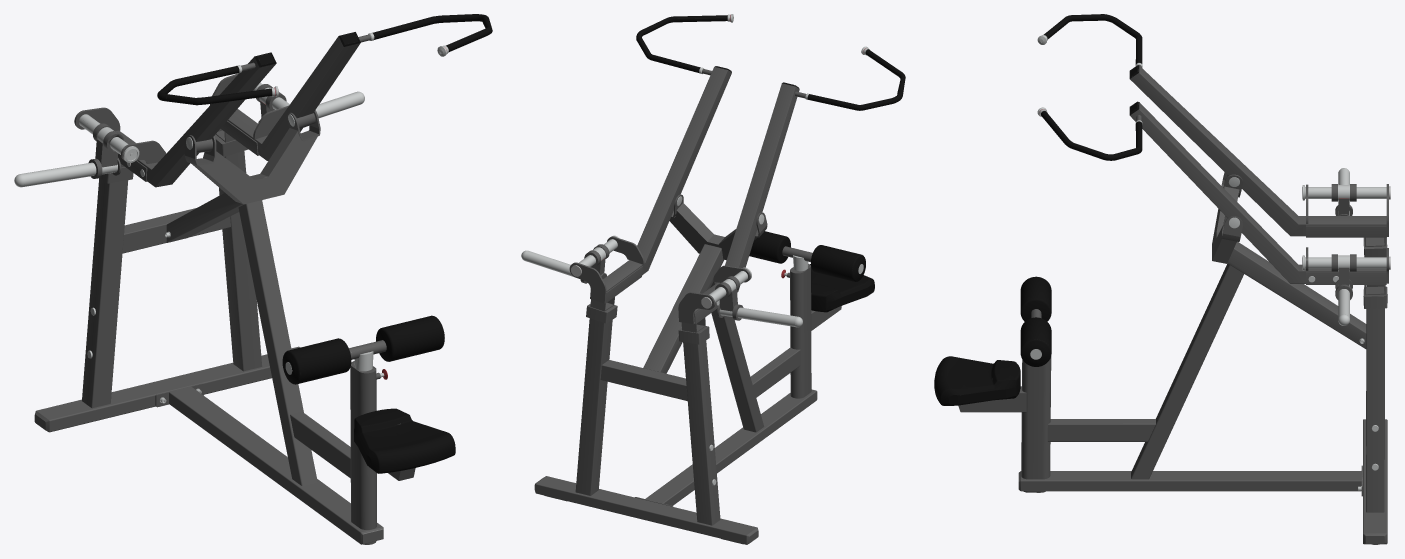
Rendered from Megafitness_94033.glb.
The picture shows the model from 3 angles, left to right: view 1: azimuth 30°, elevation 25°; view 2: azimuth 150°, elevation 25°; view 3: azimuth 270°, elevation 25°; orthographic projection. The views are drawn at different scales.
Visible parts, largest first — view 1: Cube.024, Cube.002, Cube.004, Cube.008, Cube.043, Cube.013, Cube, Cube.034, Circle.018, Cube.001, Cylinder.004, Cylinder.002 (+10 smaller); view 2: Cube.001, Cube.024, Cube.008, Cube.013, Cube.034, Cube.004, Circle.018, Cube.037, Cube.002, Cube.017, Cube.043, Cylinder.004 (+10 smaller); view 3: Cube.004, Cube.034, Cube.002, Cube.001, Cube.013, Cube.043, Cube.037, Circle.018, Cube.010, Cube.008, Cylinder.002, Cylinder.004 (+8 smaller).
Boxes of the visible parts, x1,y1,x2,y2 form: Cube.024: (82,178,128,408); Cube.002: (238,200,317,485); Cube.004: (169,386,383,544); Cube.008: (34,346,299,432); Cube.043: (354,408,455,473); Cube.013: (219,151,262,371); Cube: (191,128,317,204); Cube.034: (116,52,276,187); Circle.018: (350,351,376,529); Cube.001: (227,32,360,160); Cylinder.004: (282,338,351,384); Cylinder.002: (376,315,444,361); Cube.001: (603,66,731,291); Cube.024: (683,340,720,525); Cube.008: (534,476,758,544); Cube.013: (575,318,612,495); Cube.034: (694,82,799,323); Cube.004: (645,389,817,505); Circle.018: (790,255,811,398); Cube.037: (643,244,723,373); Cube.002: (710,282,764,432); Cube.017: (600,360,687,400); Cube.043: (810,264,874,312); Cylinder.004: (811,245,865,281); Cube.004: (1018,471,1361,491); Cube.034: (1129,65,1386,236); Cube.002: (1131,263,1243,479); Cube.001: (1129,101,1386,283); Cube.013: (1366,308,1384,512); Cube.043: (934,356,1020,405); Cube.037: (1227,241,1366,348); Circle.018: (1021,356,1051,479); Cube.010: (1047,419,1155,441); Cube.008: (1363,419,1387,544); Cylinder.002: (1020,317,1051,366); Cylinder.004: (1020,276,1051,321).
Size of the model in its own units: 1.45 by 1.86 by 1.84.
1 material, 1 textured.
